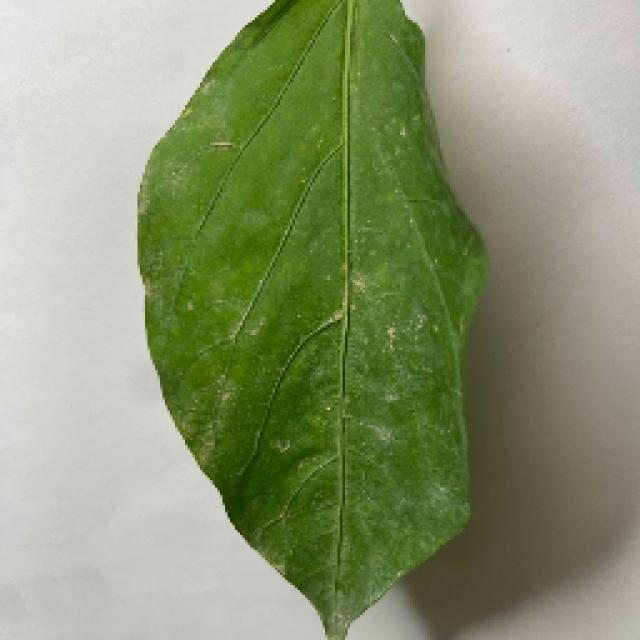Leaf: (138, 4, 488, 634)
